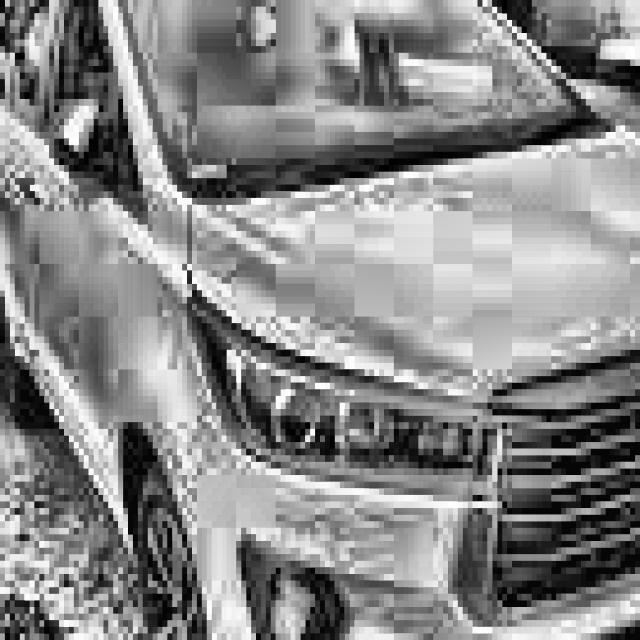light_vehicle: (0, 0, 640, 640), (428, 0, 640, 482)
